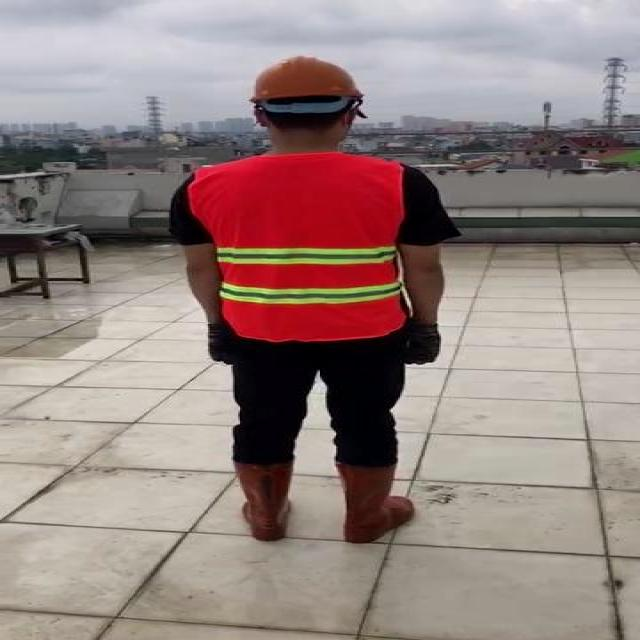boots: (338, 460, 414, 543), (235, 459, 297, 540)
hand_glove: (407, 323, 441, 366), (208, 321, 236, 366)
head_helmet: (245, 54, 370, 104)
person: (159, 50, 460, 548)
vest: (190, 153, 407, 339)
